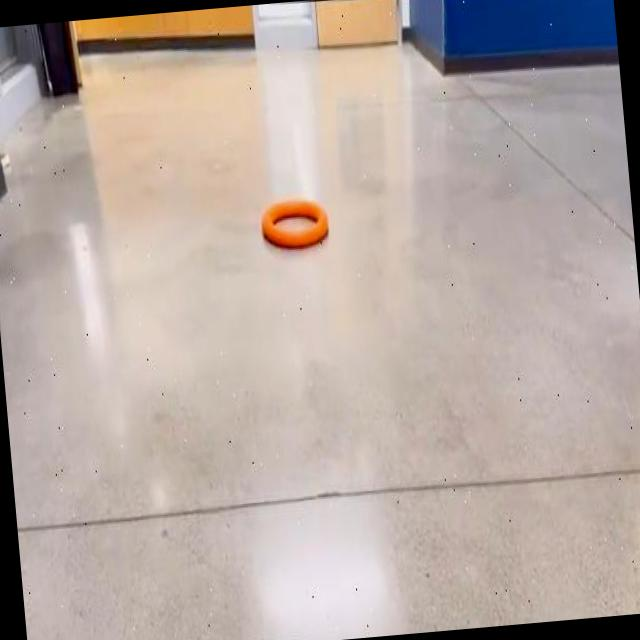note: (261, 198, 328, 245)
